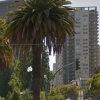Palm tree: (10, 0, 65, 97)
